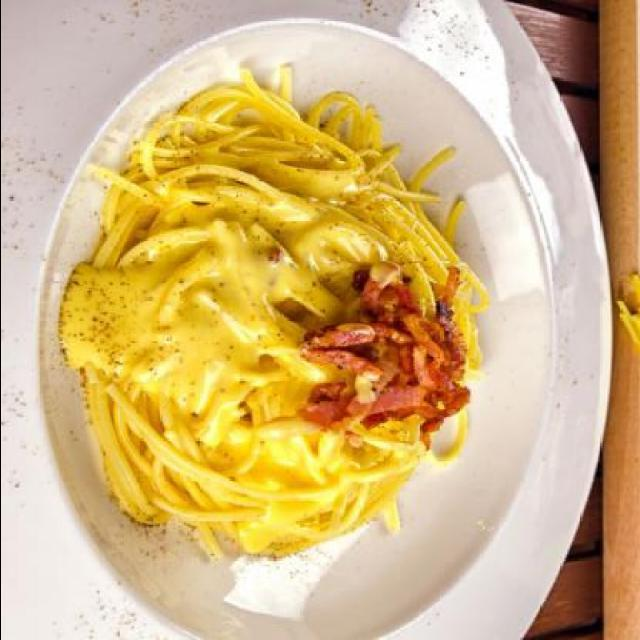Pasta with carbonara sauce: (36, 46, 526, 634)
